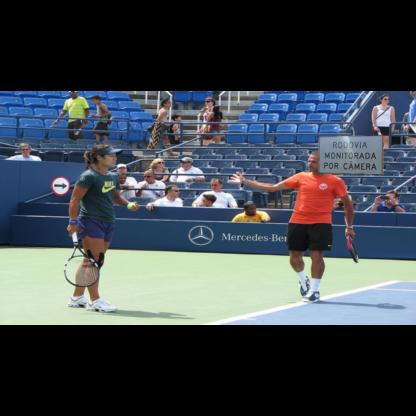I-E: (318, 135, 383, 176)
R-24a: (51, 176, 70, 196)
